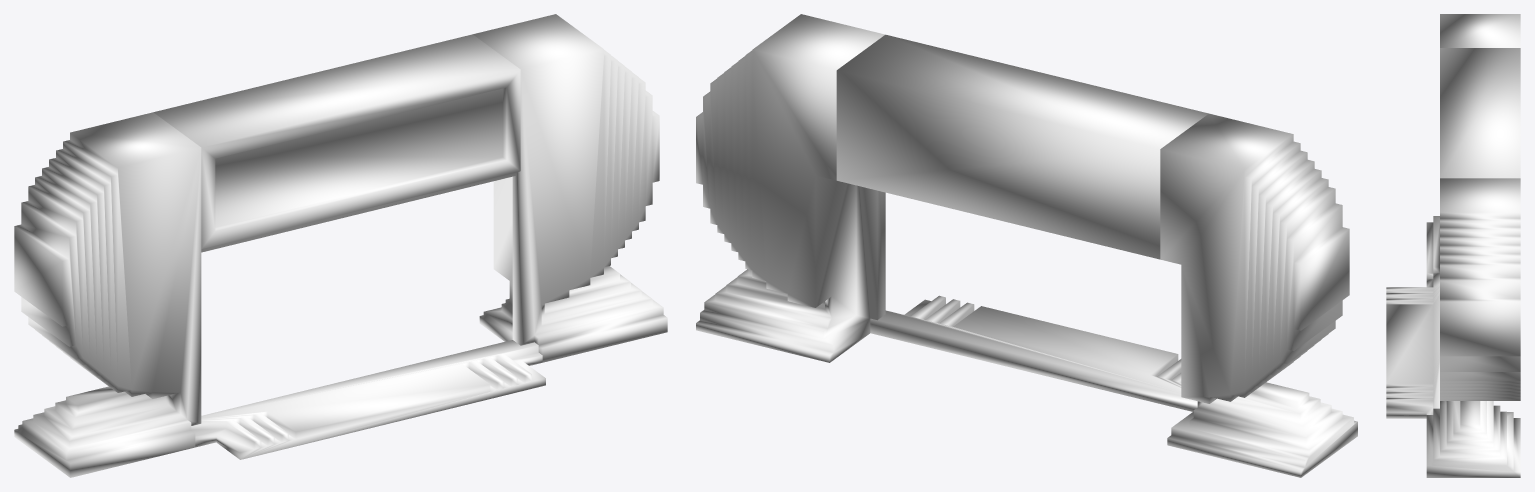
The model's file is corridorEntrance01.fbx.
3 renders of one model, left to right at view 1: azimuth 30°, elevation 25°; view 2: azimuth 150°, elevation 25°; view 3: azimuth 270°, elevation 25°, orthographic. The views are drawn at different scales.
Visible parts, largest first — view 1: entrance1Left, entrance1Top, entrance1Right, entrance1Low; view 2: entrance1Left, entrance1Top, entrance1Right, entrance1Low; view 3: entrance1Right, entrance1Top, entrance1Low, entrance1Left.
Part boxes in pixels (x1,y1,x2,y2): entrance1Left: [14, 112, 201, 477]; entrance1Top: [153, 34, 520, 252]; entrance1Right: [473, 14, 667, 362]; entrance1Low: [191, 340, 545, 459]; entrance1Left: [1160, 113, 1357, 477]; entrance1Top: [836, 34, 1208, 259]; entrance1Right: [696, 14, 885, 362]; entrance1Low: [870, 295, 1197, 411]; entrance1Right: [1426, 178, 1520, 477]; entrance1Top: [1440, 48, 1520, 178]; entrance1Low: [1386, 273, 1439, 418]; entrance1Left: [1426, 14, 1520, 279].
Bounding box in the file's own units: 6.88 × 3.2 × 1.6.
4 materials, 4 textured.
